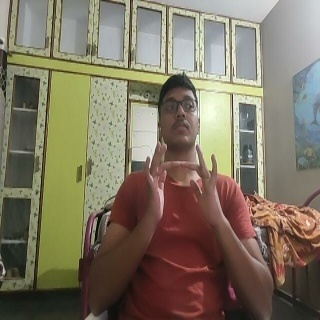Internet: (142, 141, 223, 227)
